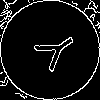Y: (25, 25, 82, 79)
